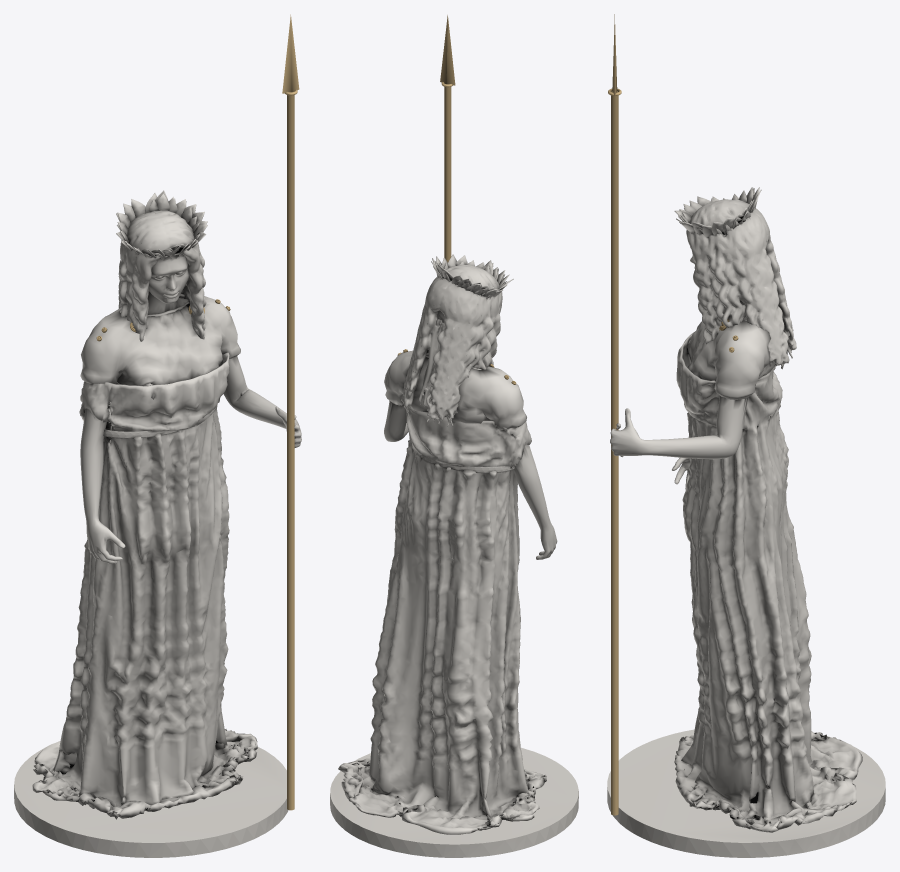
The model's file is atenea.glb.
The picture shows the model from 3 angles, left to right: view 1: azimuth 30°, elevation 25°; view 2: azimuth 150°, elevation 25°; view 3: azimuth 270°, elevation 25°; orthographic projection. The views are drawn at different scales.
Visible parts, largest first — view 1: marble, gold; view 2: marble, gold; view 3: marble, gold.
Part boxes in pixels (left/top/right/bottom): marble: left=14, top=190, right=301, bottom=857; gold: left=96, top=14, right=299, bottom=810; marble: left=330, top=254, right=578, bottom=857; gold: left=397, top=15, right=516, bottom=384; marble: left=607, top=187, right=885, bottom=857; gold: left=608, top=14, right=738, bottom=815.
Size of the model in its own units: 0.8398 by 2.73 by 0.8398.
